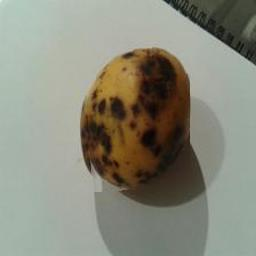Mango Rotten: (84, 36, 191, 192)
